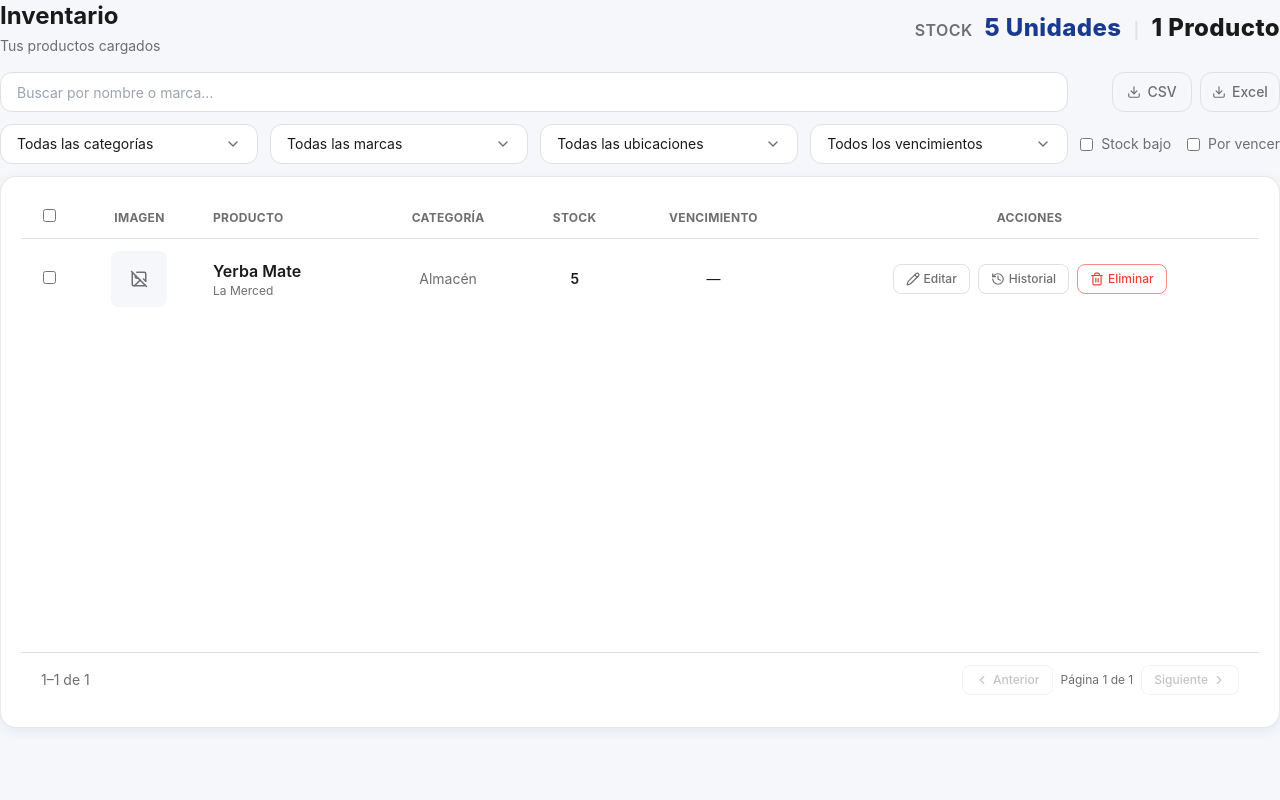
Scenario: MyProducts › si falla la edición en lote, muestra el error y permite cancelar
This screenshot has width=1280, height=800.
Check: the button "Yerba Mate" is shown, box x1=213 y1=259 x2=301 y2=283
Click the checkbox named "Seleccionar Yerba Mate" at (50, 278), box x1=43 y1=271 x2=56 y2=284
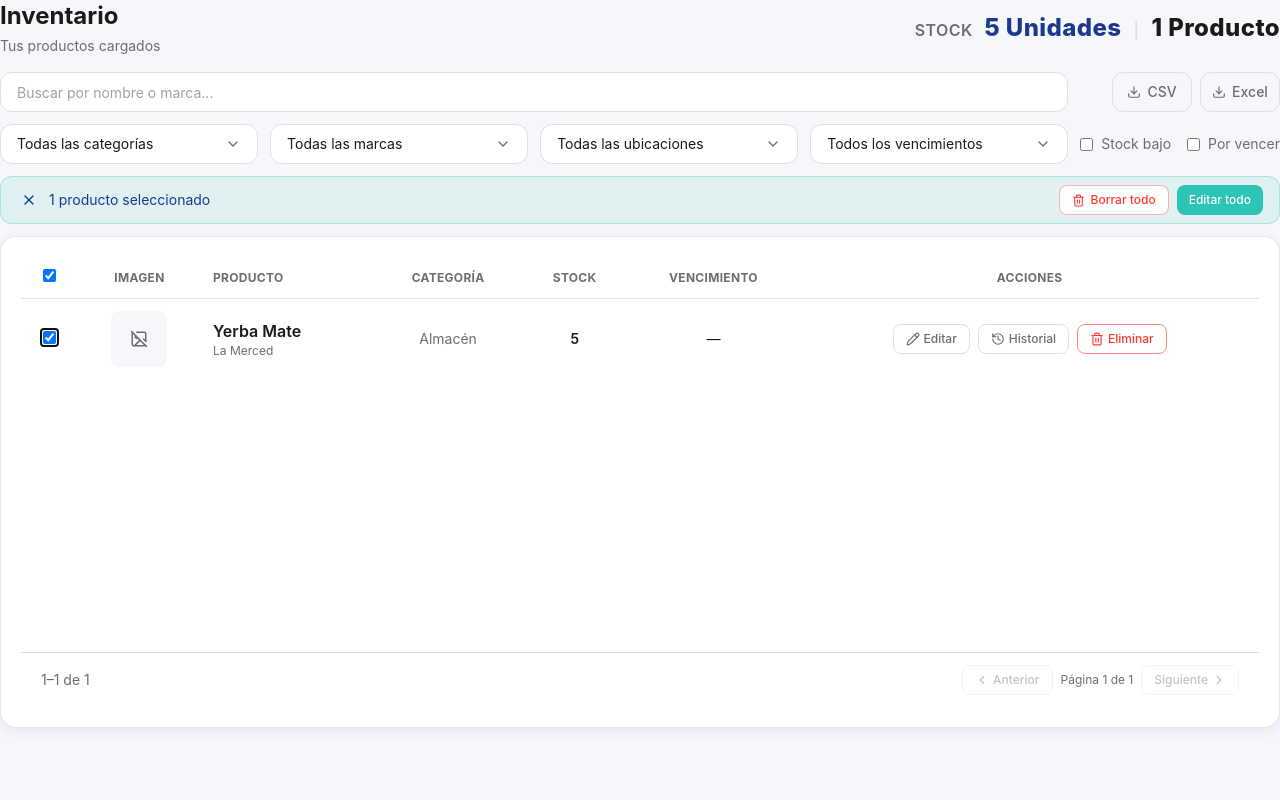
Click the button "Editar todo" at (1220, 200), box x1=1177 y1=185 x2=1263 y2=215
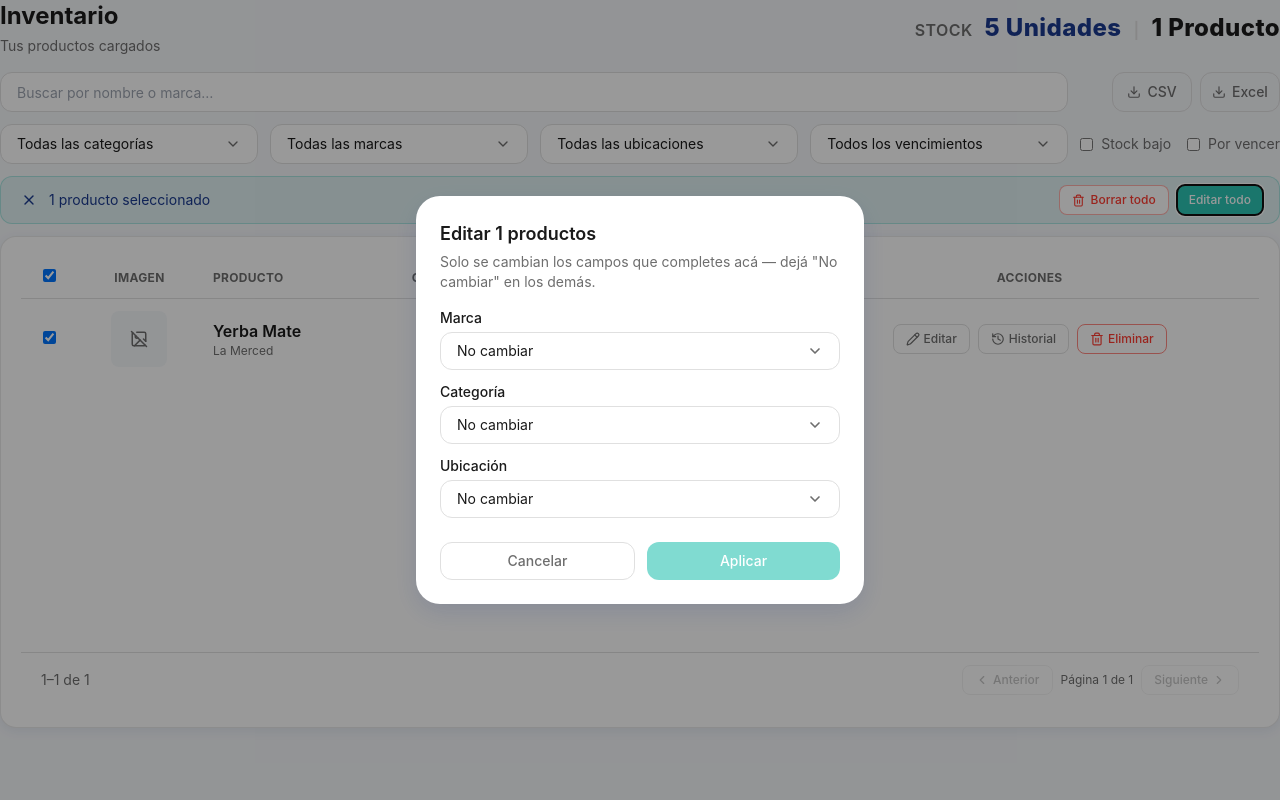
Check: the button "Aplicar" is disabled, box x1=647 y1=542 x2=840 y2=580
Select "Otra Marca" in the 1st dropdown at (640, 351), box x1=440 y1=332 x2=840 y2=370
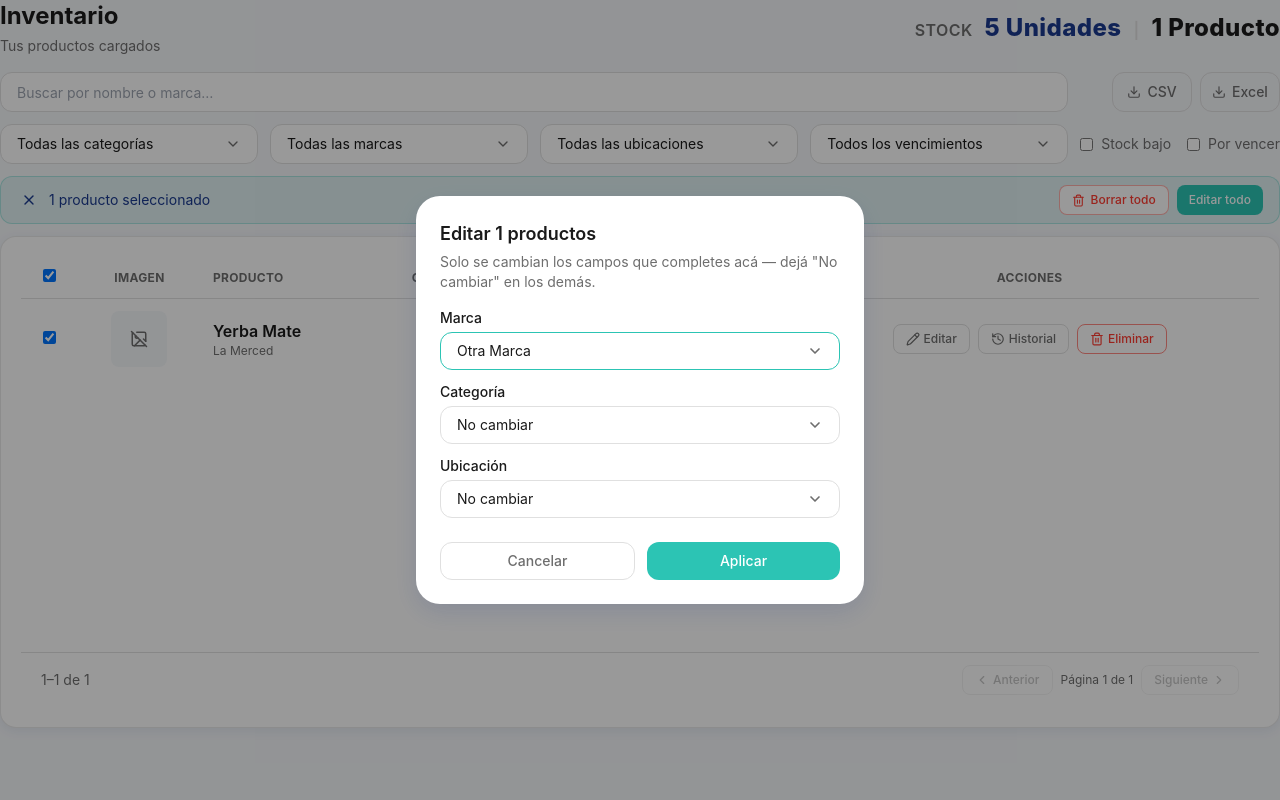
Click the button "Aplicar" at (744, 561), box x1=647 y1=542 x2=840 y2=580
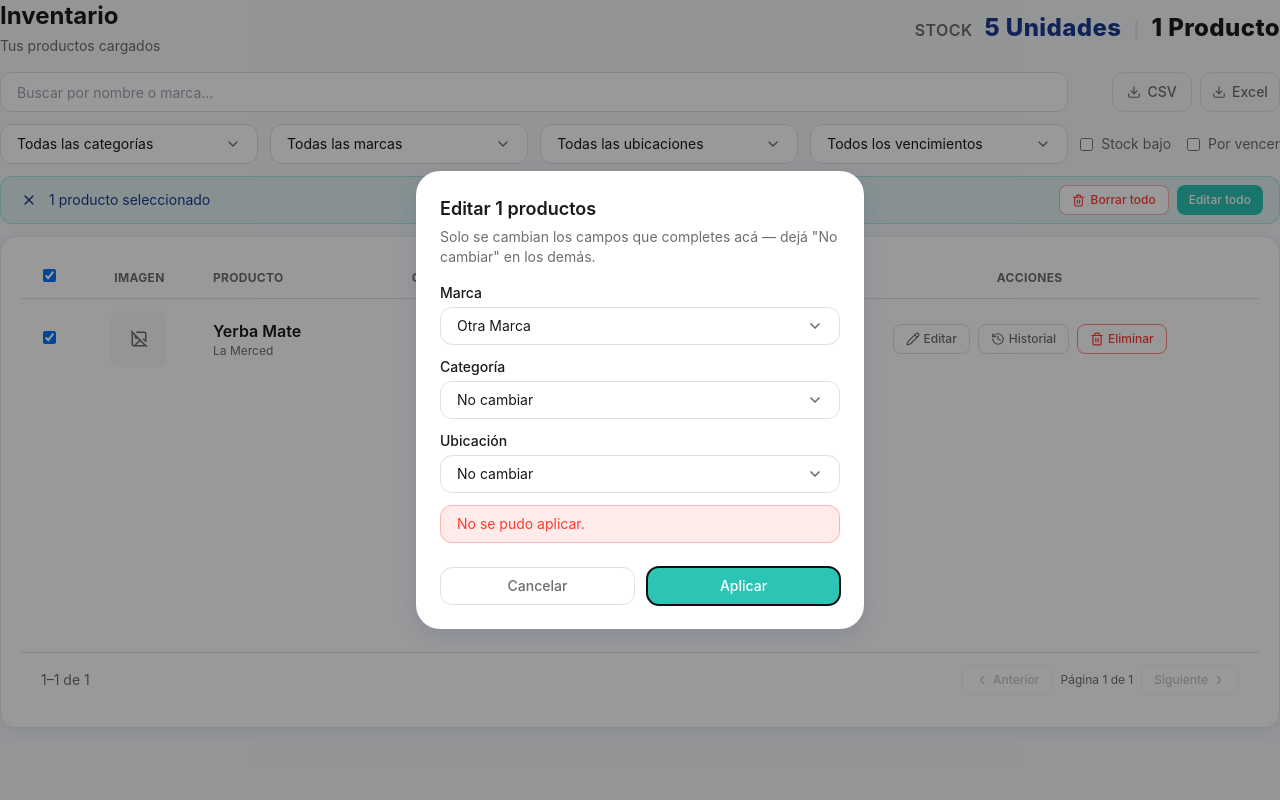
Check: the text "No se pudo aplicar." is shown, box x1=440 y1=505 x2=840 y2=543
Click the button "Cancelar" at (538, 586), box x1=440 y1=567 x2=635 y2=605
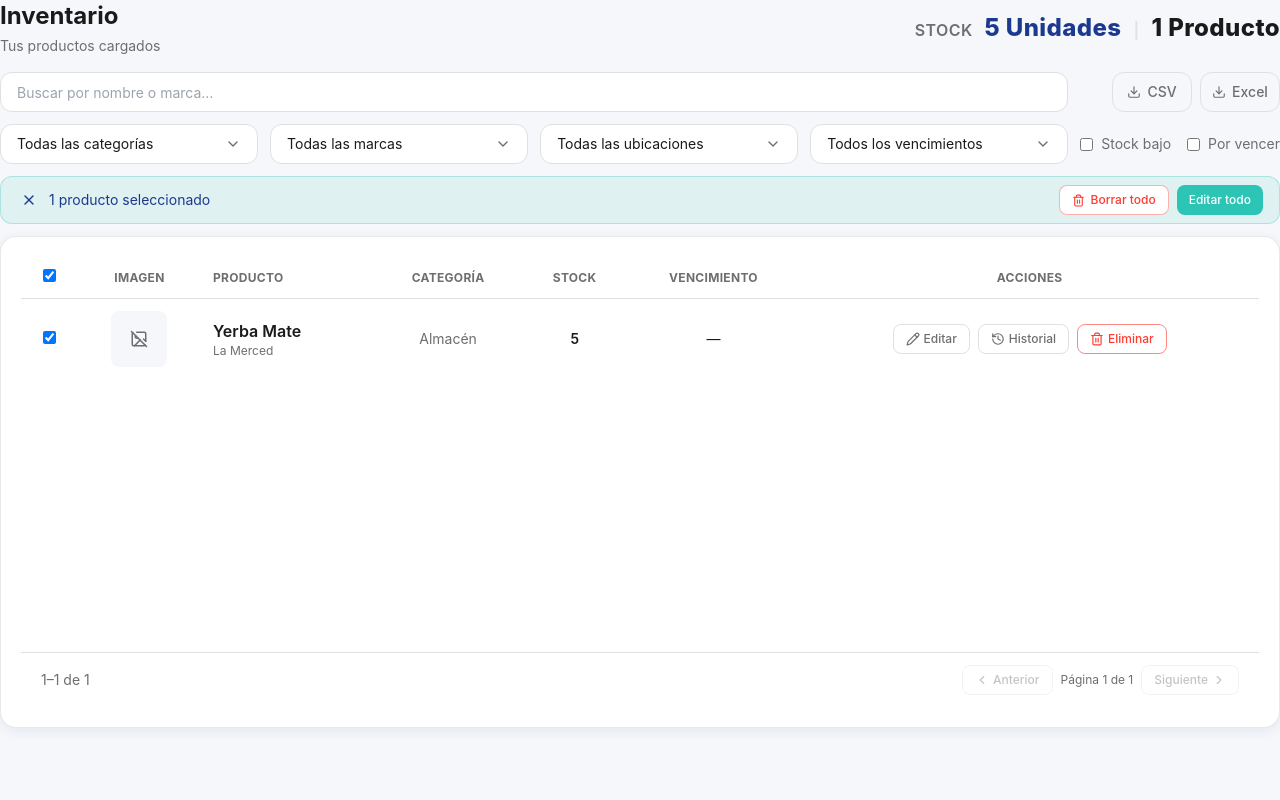
Check: the heading "Editar 1 productos" is gone
Click the button named "Deseleccionar todo" at (29, 200), box x1=17 y1=188 x2=41 y2=212
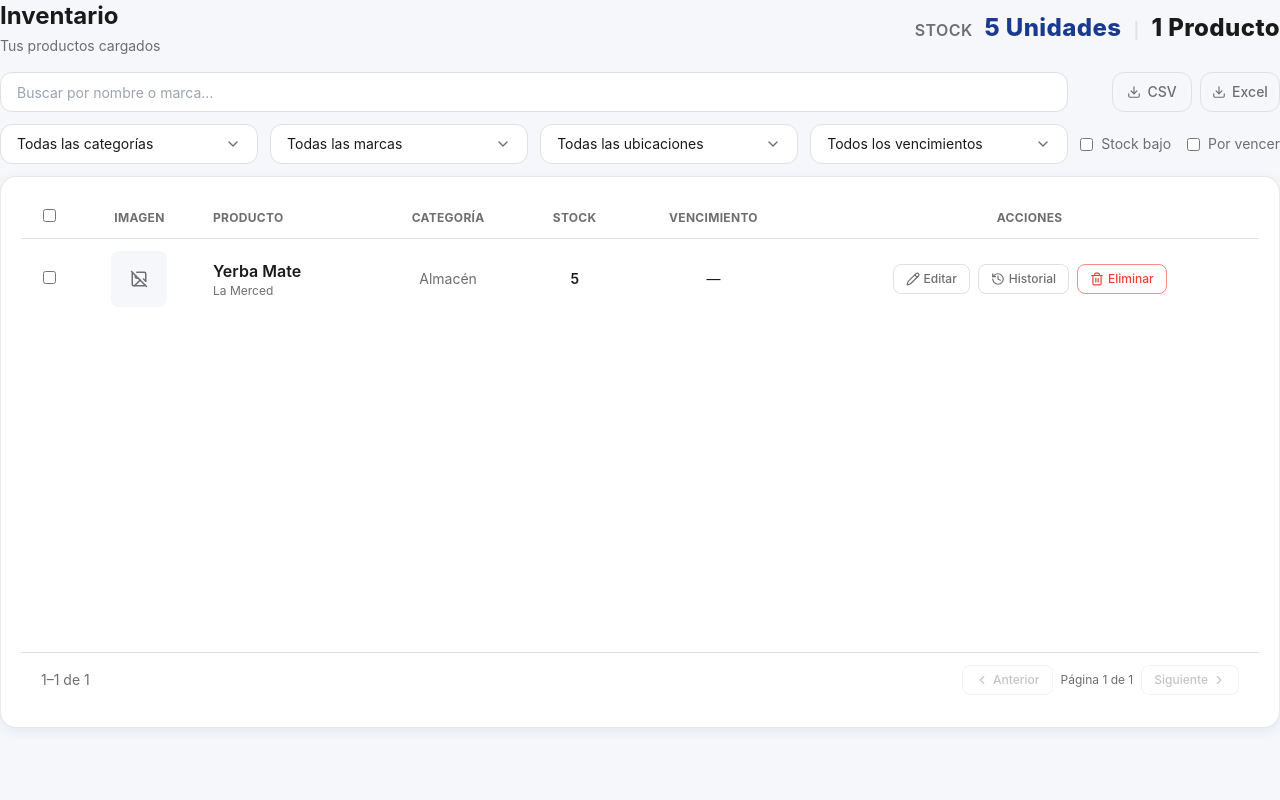
Check: the text "1 producto seleccionado" is gone
Check: the text with test id "selection-count" is gone
